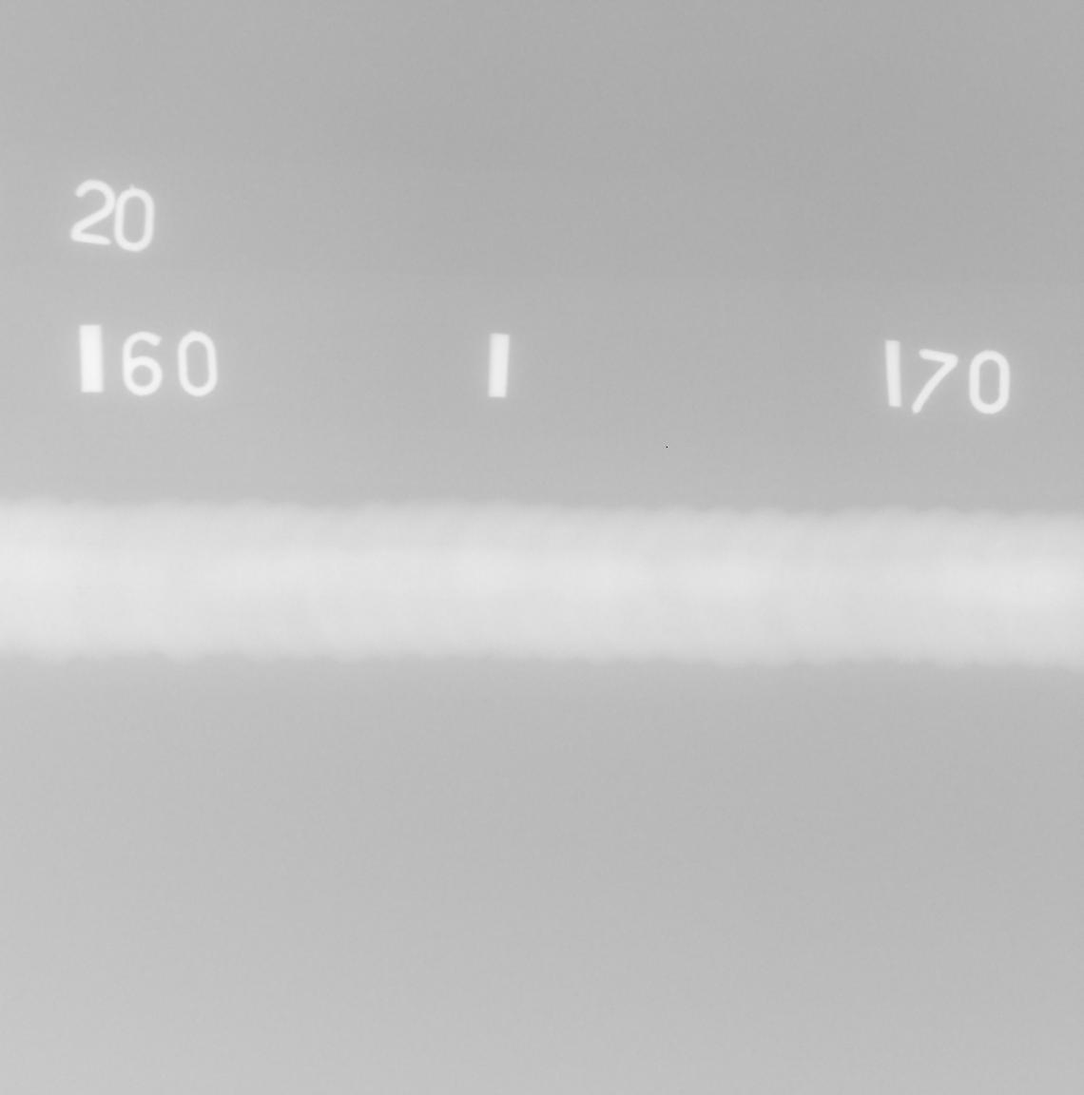Pore/Porosity: (79, 592, 85, 596), (76, 586, 82, 589), (1016, 583, 1020, 587), (89, 541, 93, 545), (897, 581, 900, 584)
